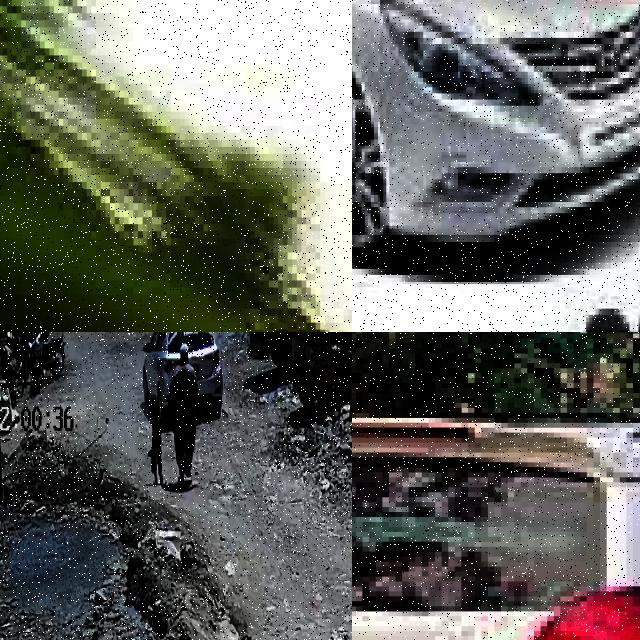bike: (45, 338, 65, 377), (32, 337, 44, 391)
car: (352, 0, 640, 258), (352, 408, 640, 640), (571, 185, 640, 332), (142, 332, 222, 417)
